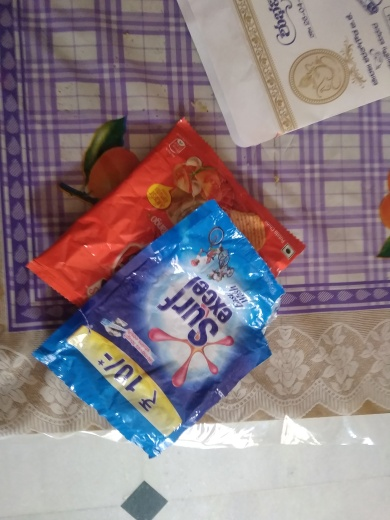lays: (30, 116, 304, 318)
surf: (34, 203, 299, 466)
